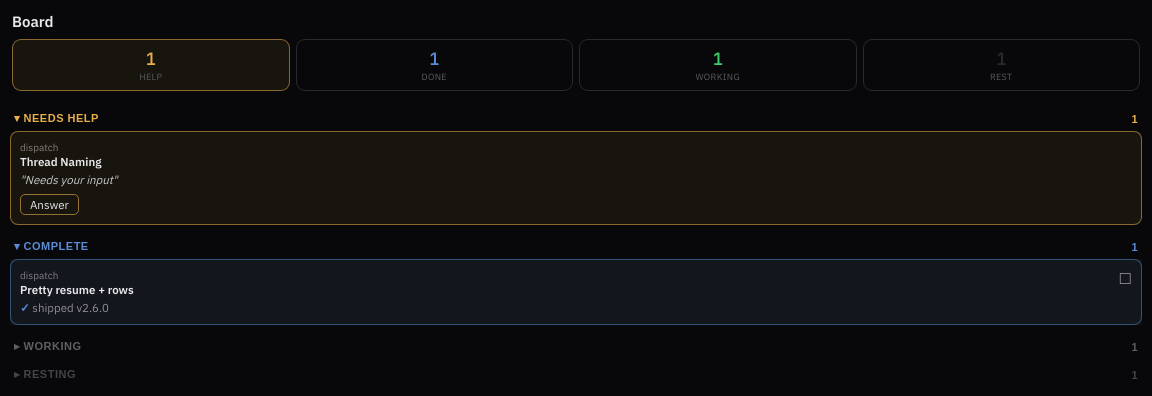
it: BoardMobile — tapping a header toggles expansion › tapping the expanded Complete header collapses it, hiding its card
The image size is (1152, 396).
Check: the text "Pretty resume + rows" is shown, box 20,282 -> 134,297
Click the button with test id "board-section-toggle-complete" at (56, 246), box 10,231 -> 1142,259
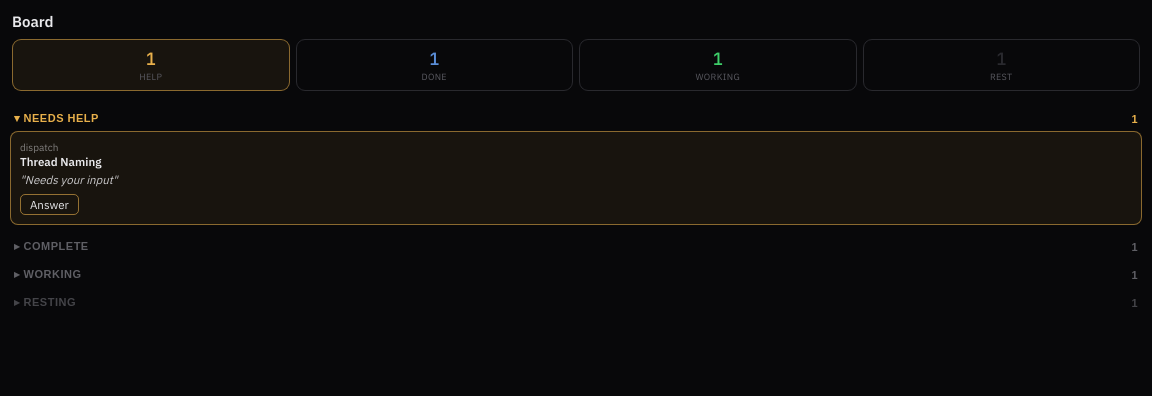
Check: the text "Pretty resume + rows" is gone
